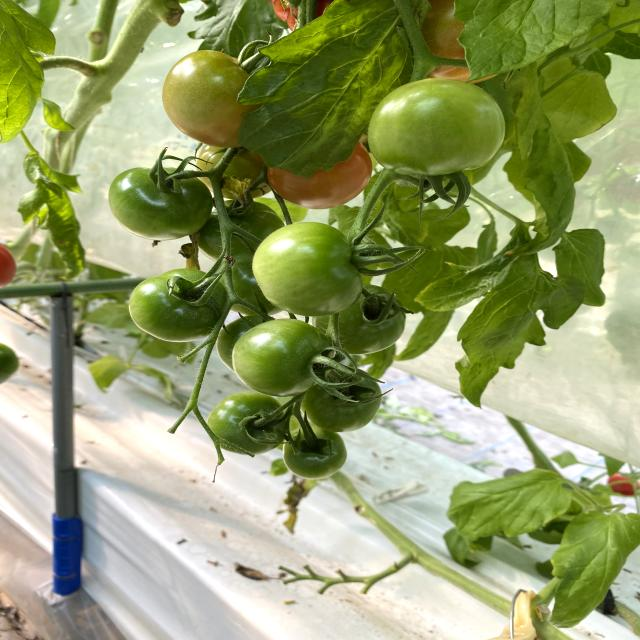ripe0: (366, 77, 507, 178), (252, 223, 369, 318), (232, 320, 332, 395), (110, 167, 213, 239), (130, 269, 230, 342), (207, 395, 287, 456)
